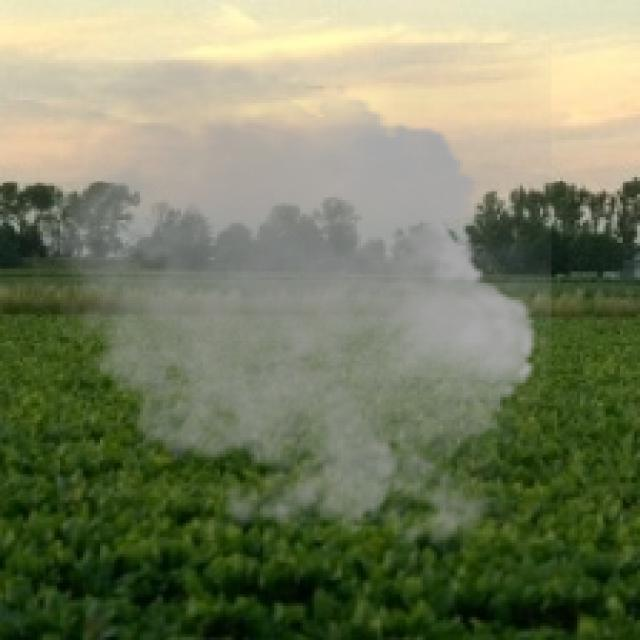Smoke: (17, 43, 552, 563)
